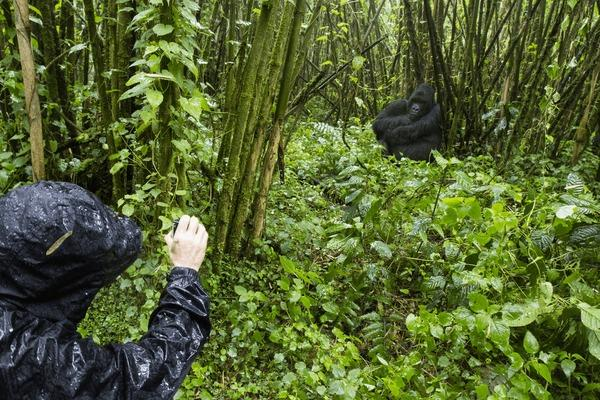goriile_montagne: (364, 78, 450, 161)
